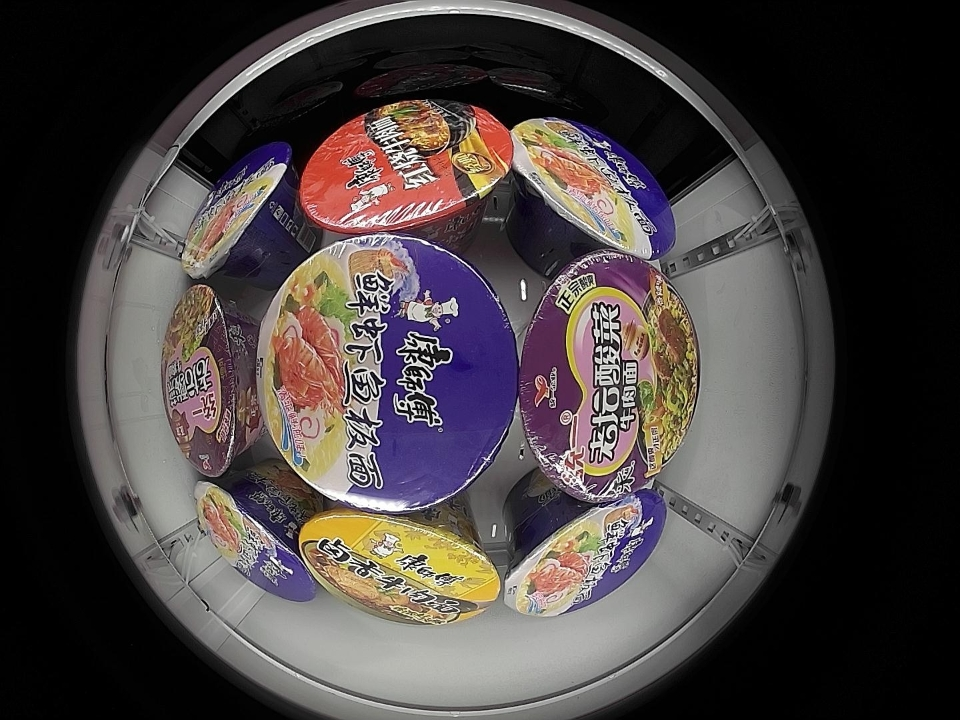hongshaoniurou: (298, 98, 515, 235)
laotansuancai: (518, 252, 701, 503), (163, 282, 258, 477)
luxiangniurou: (299, 508, 501, 625)
xianxiayuban: (255, 235, 521, 512), (510, 116, 677, 260), (505, 489, 667, 618), (180, 139, 302, 282), (193, 478, 314, 603)
